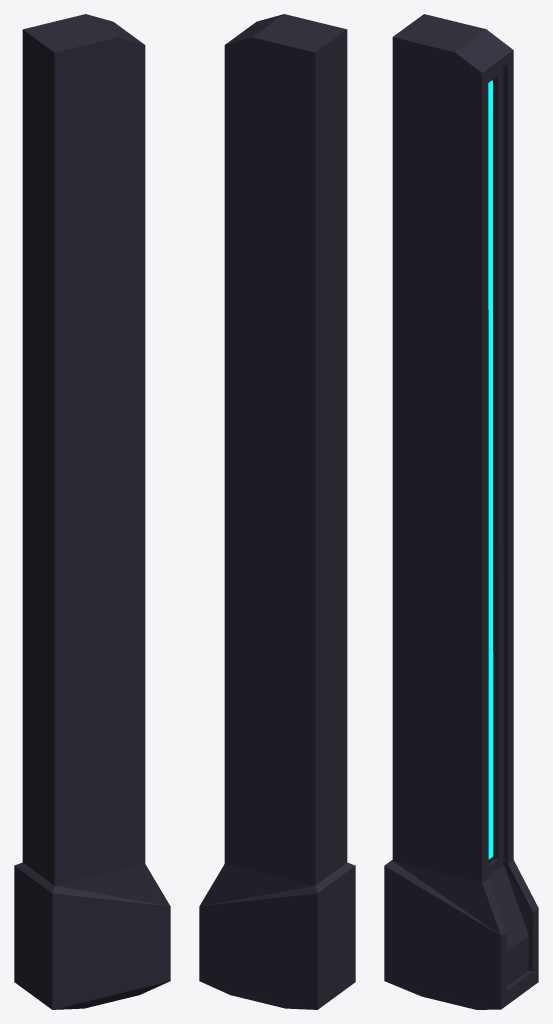
File: SM_Wall_EndCap.fbx
3 views of the same model, side by side, from view 1: azimuth 30°, elevation 25°; view 2: azimuth 150°, elevation 25°; view 3: azimuth 330°, elevation 25° (orthographic).
Visible parts, largest first — view 1: SM_Wall_EndCap; view 2: SM_Wall_EndCap; view 3: SM_Wall_EndCap.
Boxes of the visible parts, box(x1,y1,x2,y2) form: SM_Wall_EndCap: box(14, 14, 170, 1009); SM_Wall_EndCap: box(199, 14, 355, 1009); SM_Wall_EndCap: box(384, 14, 538, 1009).
Bounding box in the file's own units: 25.76 × 200 × 14.32.
